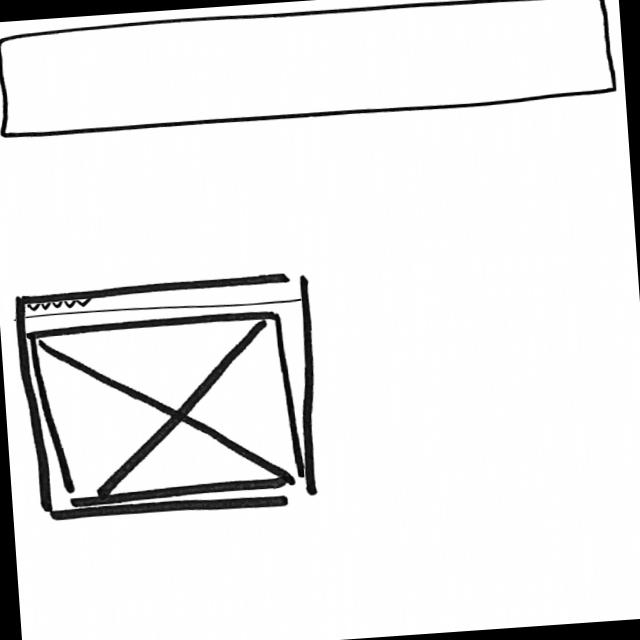container: (0, 0, 622, 140), (12, 274, 325, 522)
image: (31, 308, 302, 506)
text: (28, 298, 94, 311)
